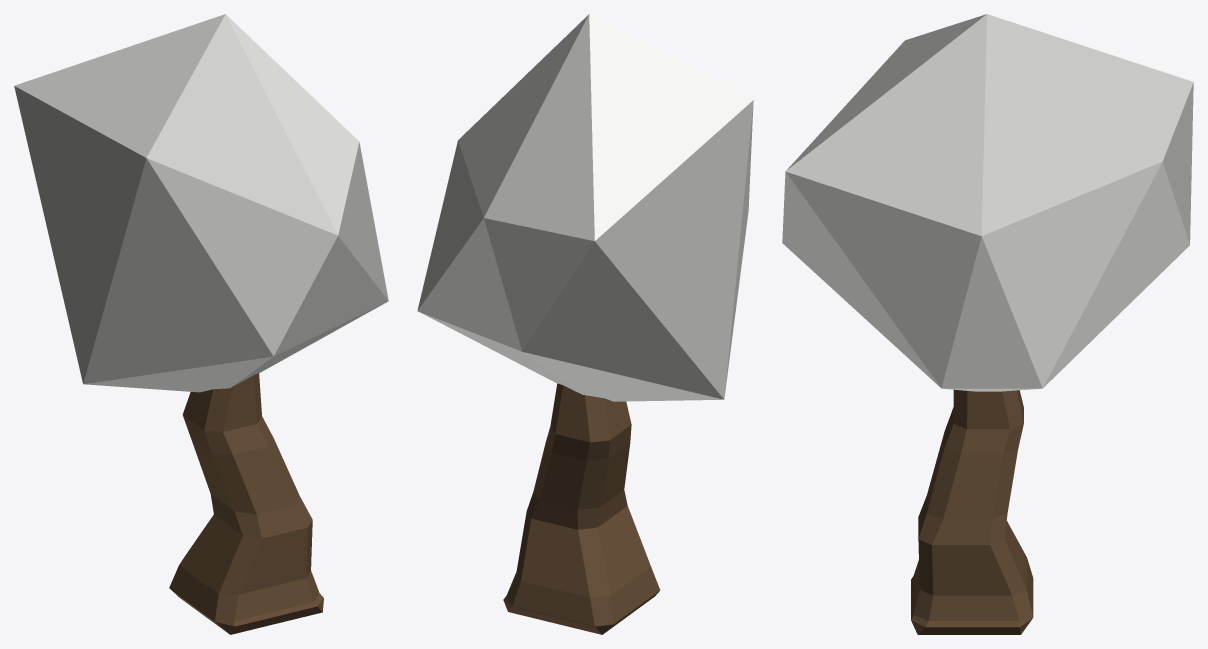
The model's file is Tree_1_White.fbx.
The picture shows the model from 3 angles, left to right: view 1: azimuth 30°, elevation 25°; view 2: azimuth 150°, elevation 25°; view 3: azimuth 270°, elevation 25°; orthographic projection. The views are drawn at different scales.
Parts seen in each view (by area): view 1: Tree_1_White_Part_2, Tree_1_White_Part_3, Tree_1_White_Part_1; view 2: Tree_1_White_Part_2, Tree_1_White_Part_3, Tree_1_White_Part_1; view 3: Tree_1_White_Part_2, Tree_1_White_Part_3, Tree_1_White_Part_1.
Boxes of the visible parts, x1,y1,x2,y2 form: Tree_1_White_Part_2: (14, 14, 388, 392); Tree_1_White_Part_3: (14, 14, 388, 384); Tree_1_White_Part_1: (169, 373, 323, 634); Tree_1_White_Part_2: (417, 14, 753, 399); Tree_1_White_Part_3: (417, 14, 753, 401); Tree_1_White_Part_1: (503, 383, 660, 634); Tree_1_White_Part_2: (785, 14, 1193, 388); Tree_1_White_Part_3: (782, 14, 1189, 391); Tree_1_White_Part_1: (911, 389, 1033, 634).
Size of the model in its own units: 302 by 610 by 385.
